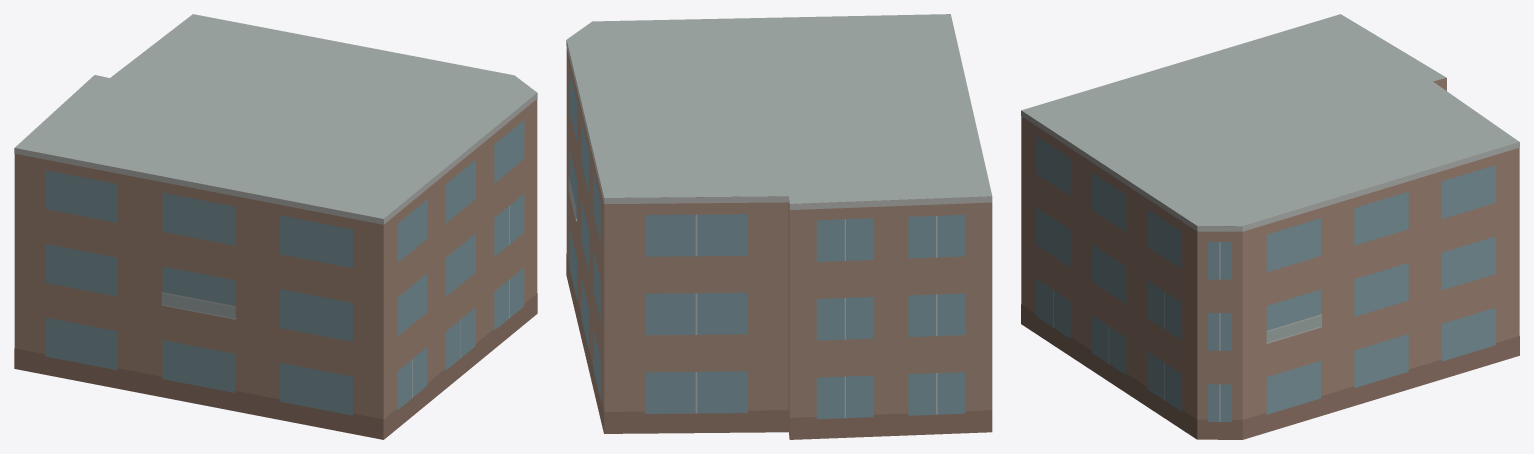
The model's file is survey-upis-32802768.glb.
3 views of the same model, side by side, from view 1: azimuth 30°, elevation 25°; view 2: azimuth 150°, elevation 25°; view 3: azimuth 270°, elevation 25° (orthographic). The views are drawn at different scales.
Parts seen in each view (by area): view 1: survey-upis-32802768.tmp; view 2: survey-upis-32802768.tmp; view 3: survey-upis-32802768.tmp.
Part boxes in pixels (bbox=[...]): survey-upis-32802768.tmp: bbox=[14, 14, 537, 439]; survey-upis-32802768.tmp: bbox=[566, 14, 992, 439]; survey-upis-32802768.tmp: bbox=[1021, 14, 1519, 439].
Bounding box in the file's own units: 19.81 × 9.3 × 19.67.
